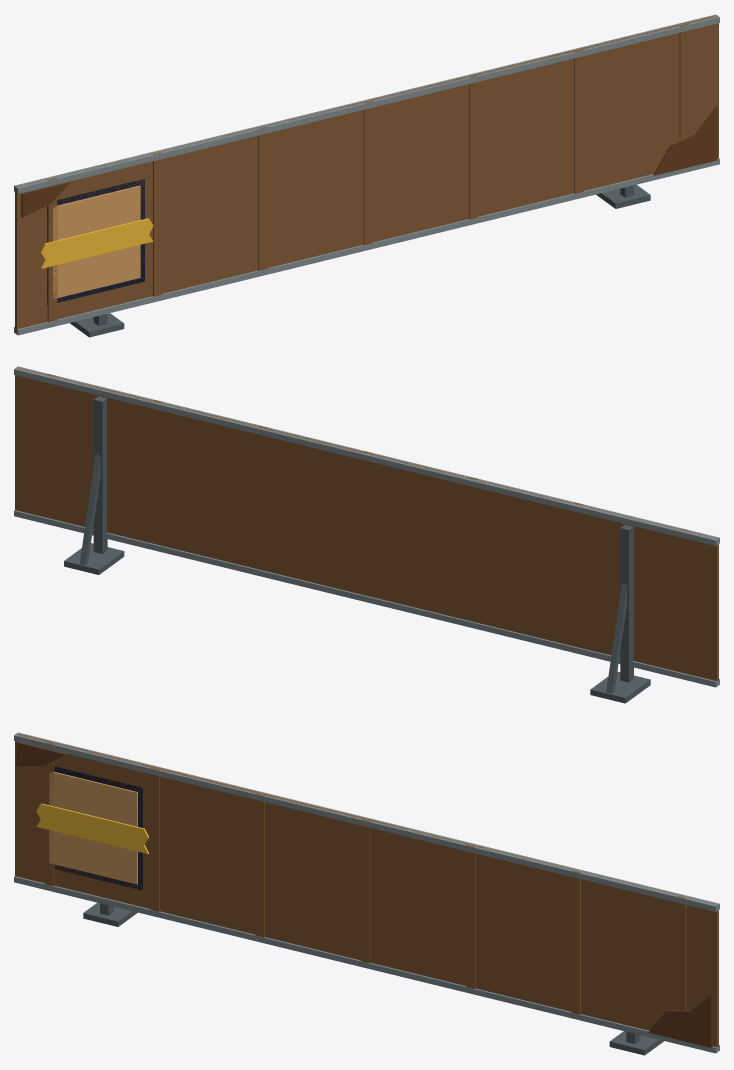
File: sm_env_shed_sign_small.glb
The picture shows the model from 3 angles, top to bottom: view 1: azimuth 30°, elevation 25°; view 2: azimuth 150°, elevation 25°; view 3: azimuth 330°, elevation 25°; orthographic projection.
Parts seen in each view (by area): view 1: Sheet, RollTop, Brand, RollBottom, BrandTape, Rust, Rib.003, BrandInk, Rib.002, Rib.005, Rib.001, Rib.004 (+5 smaller); view 2: Sheet, RollTop, RollBottom, Upright, Upright.001, Foot, Foot.001, Kicker, Kicker.001; view 3: Sheet, RollTop, Brand, RollBottom, BrandTape, Rust, Rib.003, Rib.001, Rib.004, Rib.005, Rib.002, BrandInk (+5 smaller).
Part boxes in pixels (left/top/right/bottom): Sheet: left=15, top=15, right=718, bottom=333; RollTop: left=14, top=14, right=719, bottom=193; Brand: left=53, top=185, right=140, bottom=298; RollBottom: left=14, top=158, right=719, bottom=335; BrandTape: left=40, top=218, right=153, bottom=268; Rust: left=653, top=106, right=717, bottom=175; Rib.003: left=363, top=101, right=373, bottom=245; BrandInk: left=47, top=179, right=144, bottom=304; Rib.002: left=258, top=126, right=267, bottom=270; Rib.005: left=574, top=49, right=583, bottom=193; Rib.001: left=153, top=152, right=162, bottom=296; Rib.004: left=469, top=75, right=478, bottom=219; Sheet: left=15, top=367, right=718, bottom=681; RollTop: left=14, top=366, right=719, bottom=545; RollBottom: left=14, top=510, right=719, bottom=687; Upright: left=620, top=525, right=633, bottom=682; Upright.001: left=93, top=396, right=107, bottom=553; Foot: left=590, top=671, right=650, bottom=703; Foot.001: left=64, top=543, right=124, bottom=574; Kicker: left=606, top=583, right=627, bottom=693; Kicker.001: left=79, top=455, right=100, bottom=565; Sheet: left=15, top=733, right=718, bottom=1047; RollTop: left=14, top=732, right=719, bottom=911; Brand: left=49, top=771, right=137, bottom=884; RollBottom: left=14, top=876, right=719, bottom=1053; BrandTape: left=36, top=803, right=149, bottom=853; Rust: left=648, top=994, right=712, bottom=1047; Rib.003: left=360, top=819, right=370, bottom=963; Rib.001: left=150, top=767, right=159, bottom=911; Rib.004: left=466, top=844, right=475, bottom=988; Rib.005: left=571, top=870, right=580, bottom=1014; Rib.002: left=255, top=793, right=264, bottom=937; BrandInk: left=54, top=766, right=142, bottom=890.
Bounding box in the file's own units: 4 × 0.9 × 0.25.
